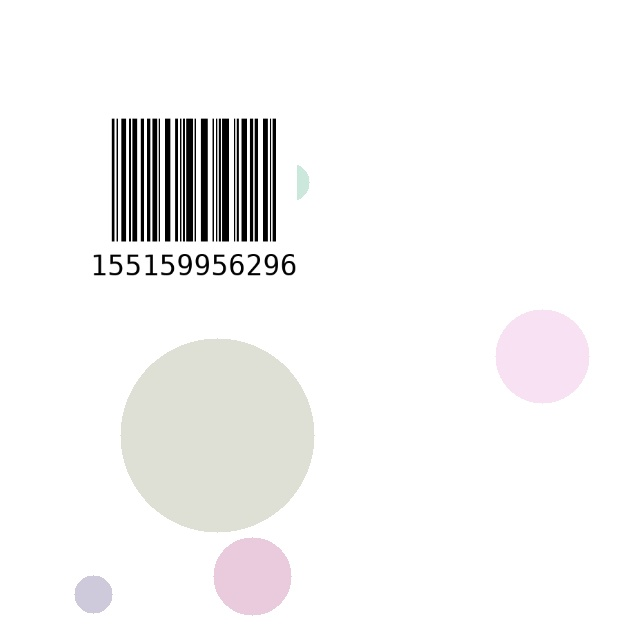barcode: (91, 111, 297, 304)
